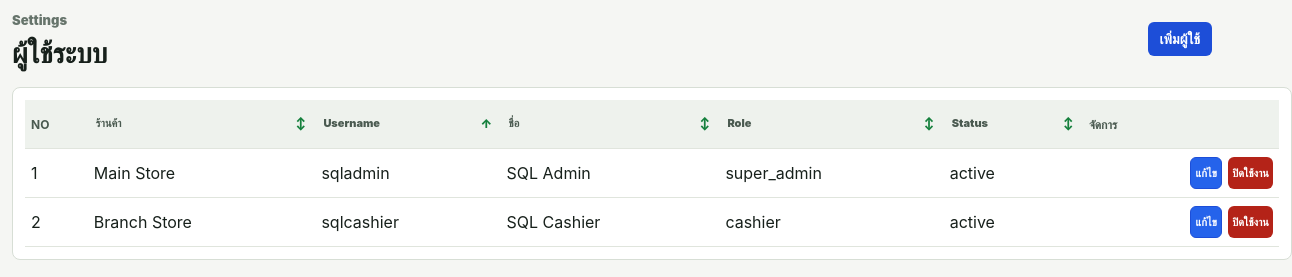
Test: UserManagementPage › deactivates a user after SweetAlert2 confirmation through the backend
Expected: the cell "sqladmin" is shown, [315,148,500,198]
Click the button "ปิดใช้งาน" in the row of "Main Store" at coordinates (1251, 173), box [1228,157,1273,189]
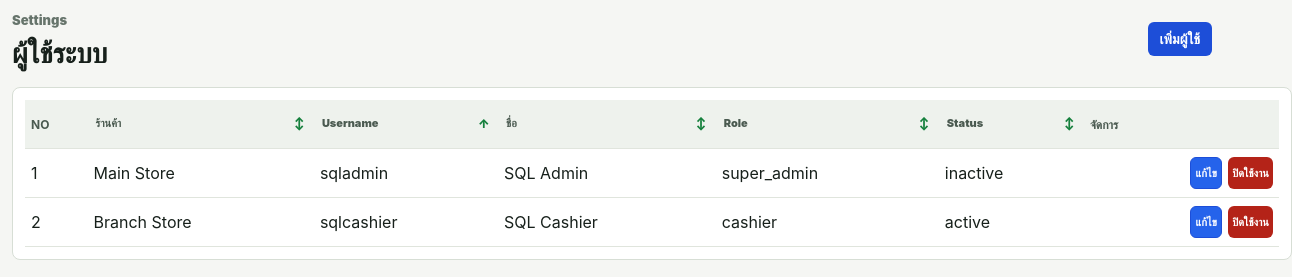
Expected: the row "sqladmin SQL Admin super_admin inactive" is shown, [25,148,1279,198]
